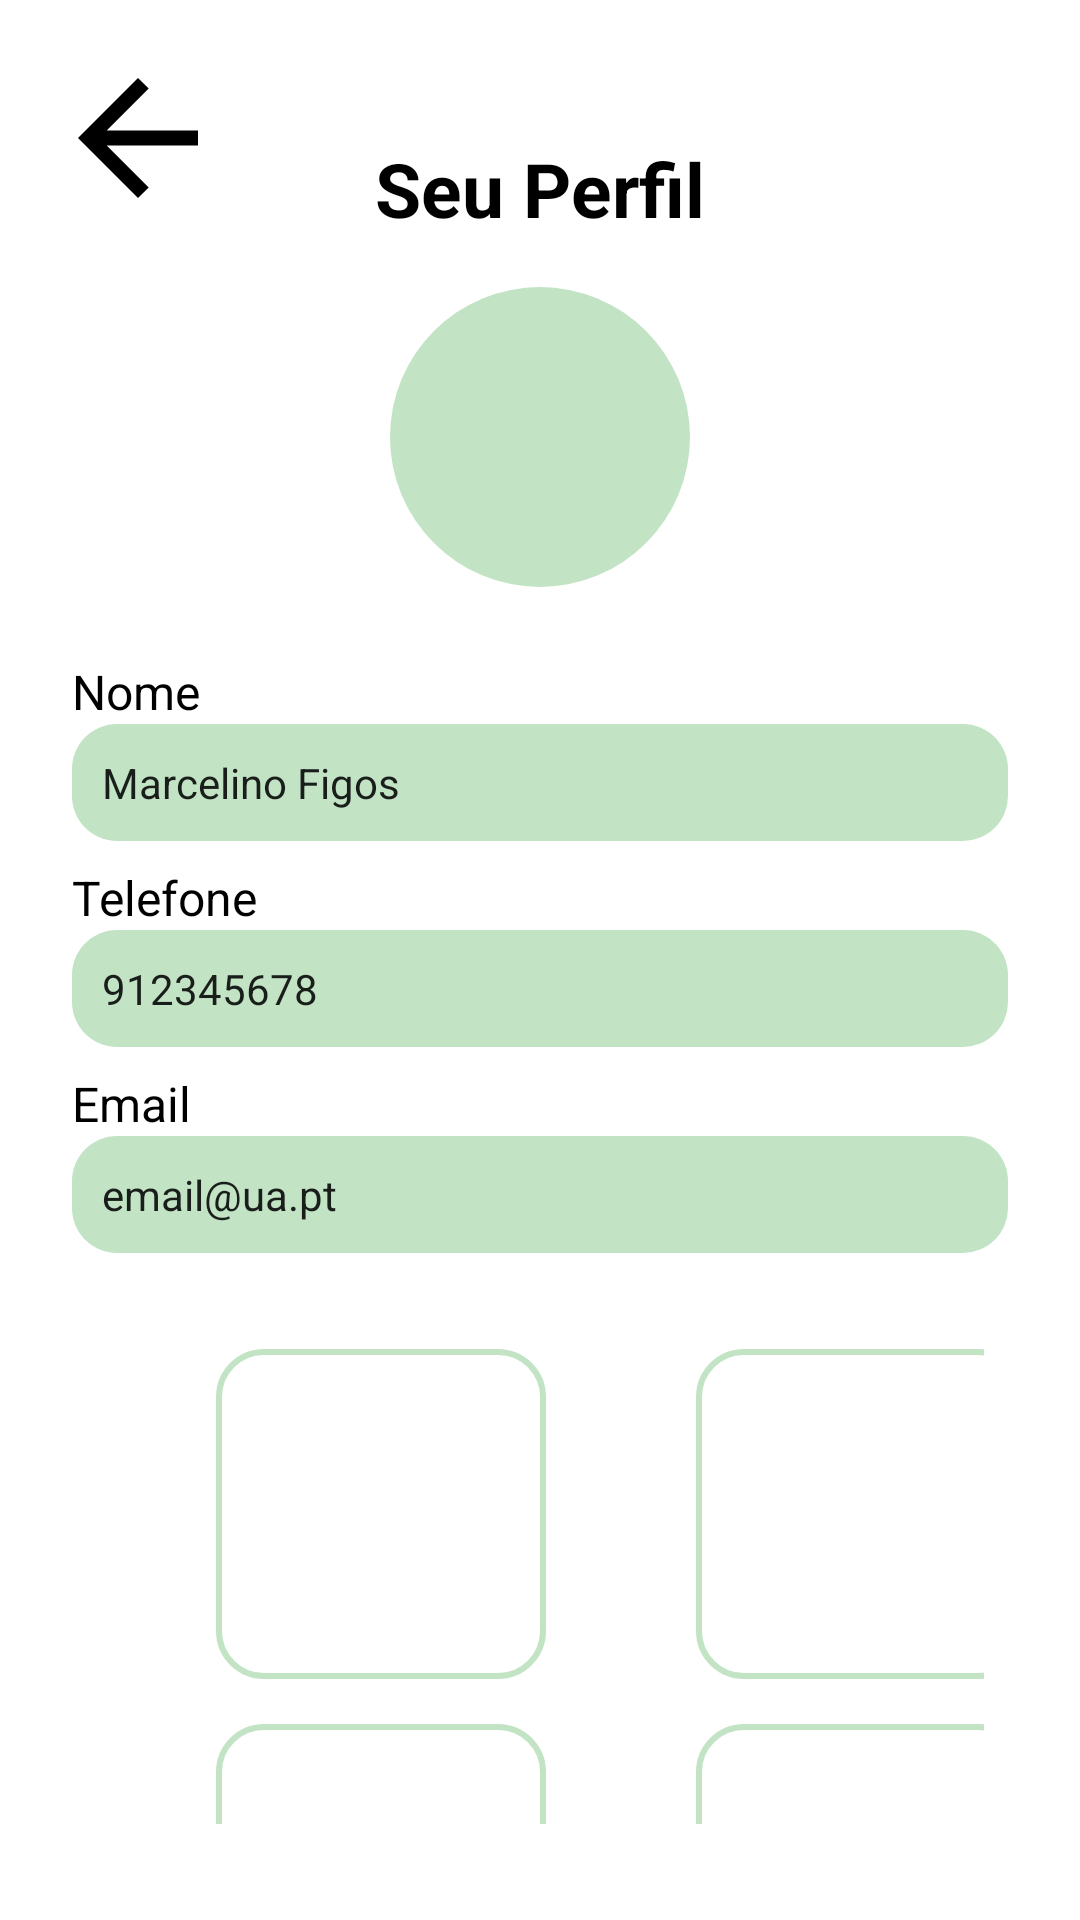

Where icons sit on this 1080w x 1920h app screen, as (x1, y1, x2, y2):
back arrow: (78, 78, 198, 198)
